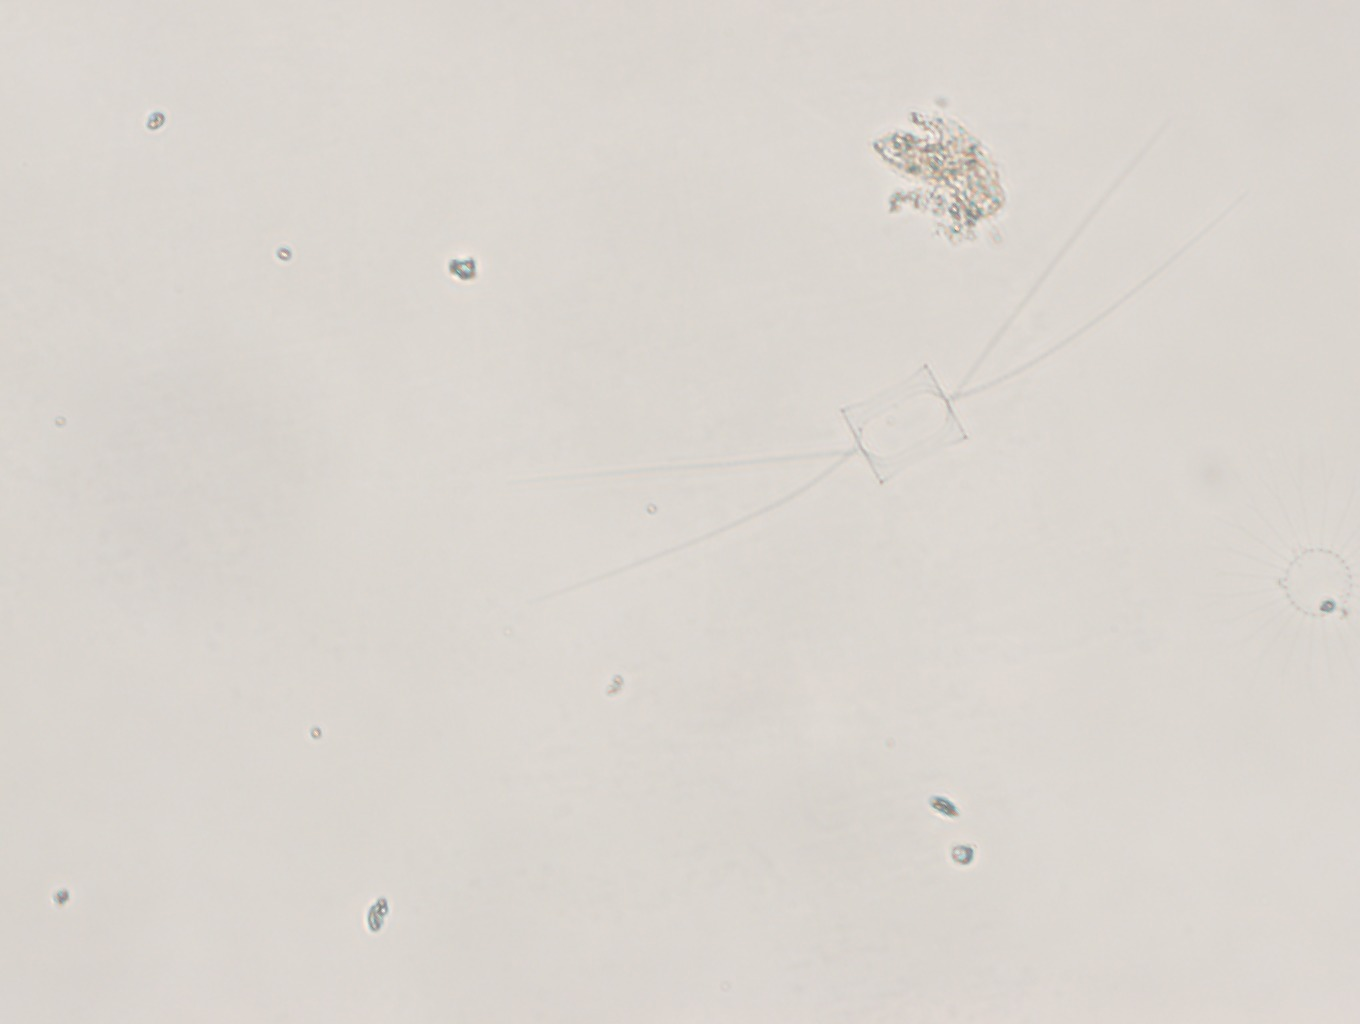chaetoceros: (531, 97, 1243, 609)
